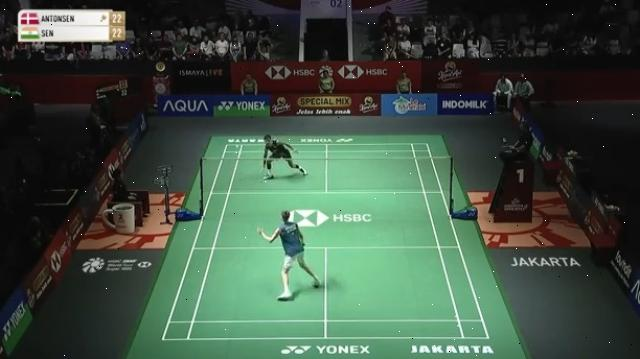Shuttlecock: (233, 141, 243, 149)
